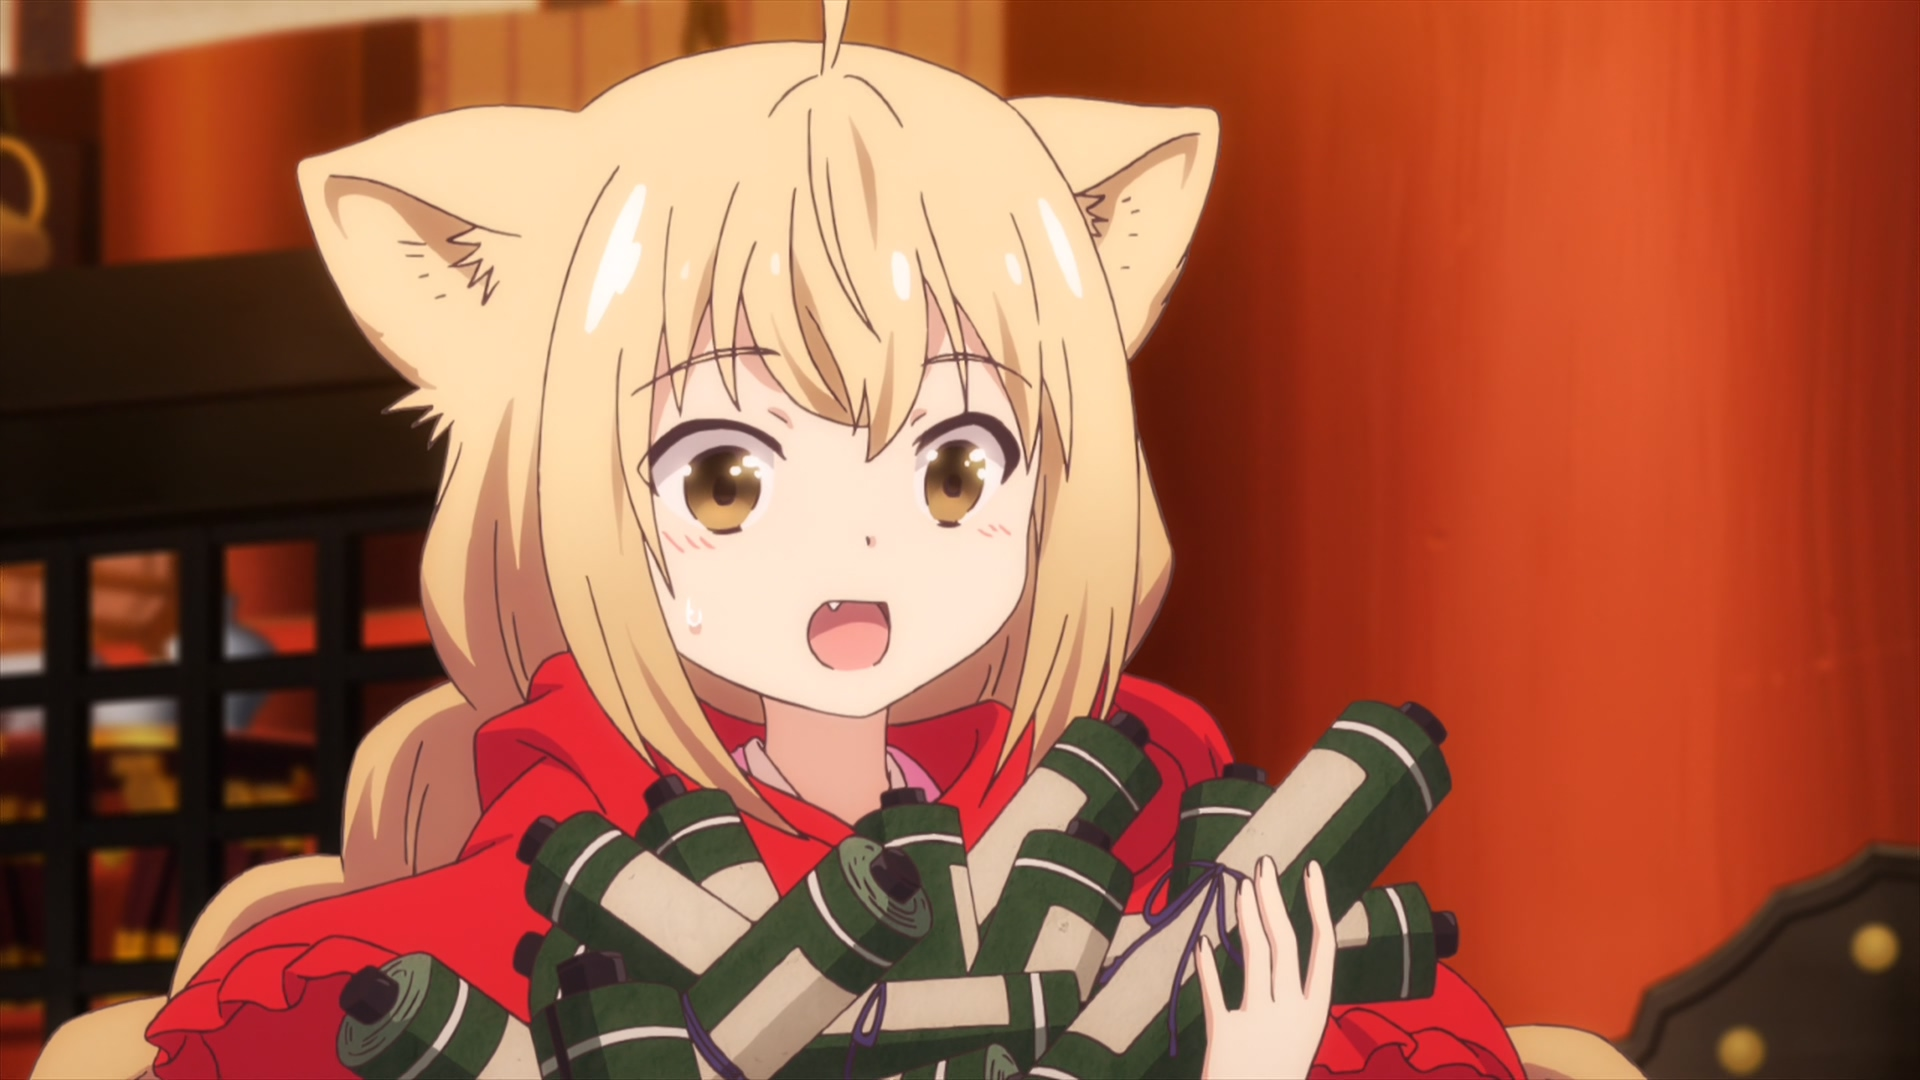柚: (32, 1, 1646, 1080)
